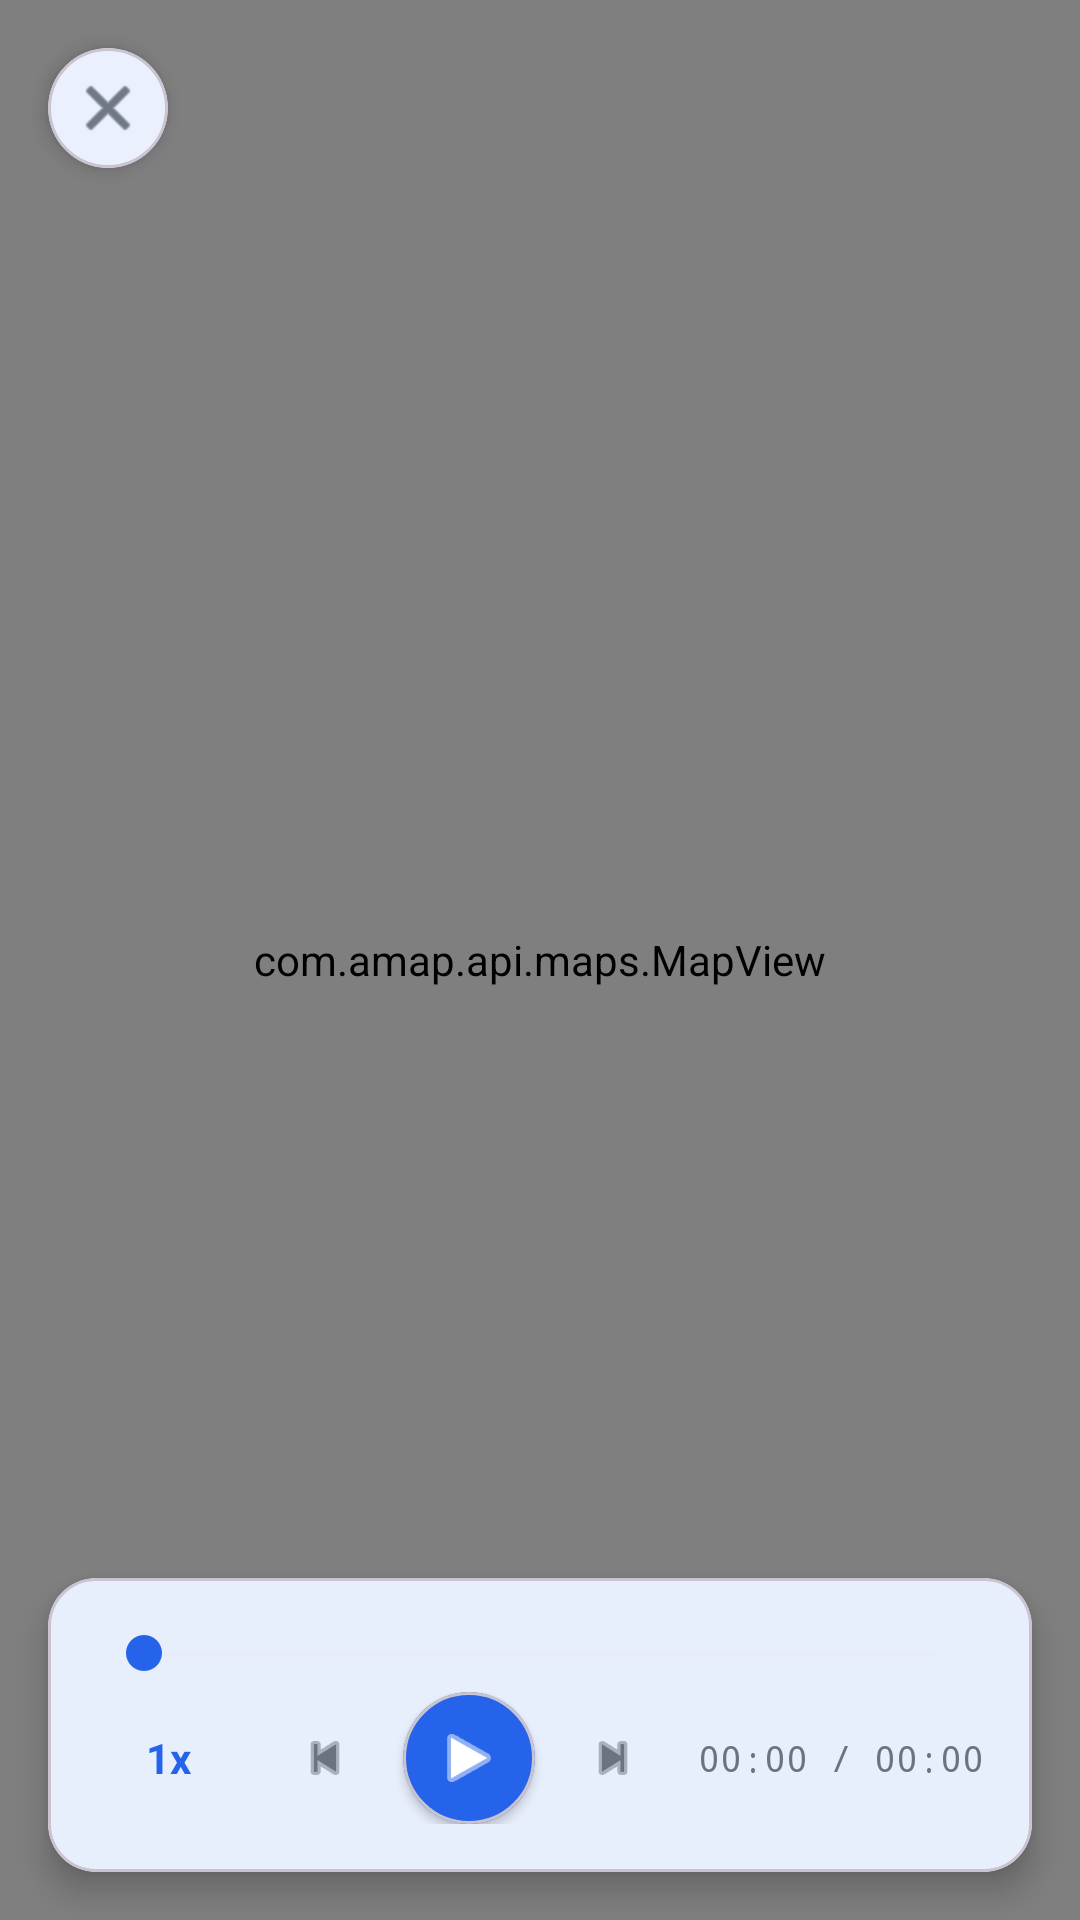

Named icons in this screenshot (1080px x 1920px) and their bounding boxes, (x1, y1, x2, y2):
播放: (403, 1692, 535, 1824)
跳到开头: (311, 1741, 339, 1775)
跳到结尾: (599, 1741, 627, 1775)
